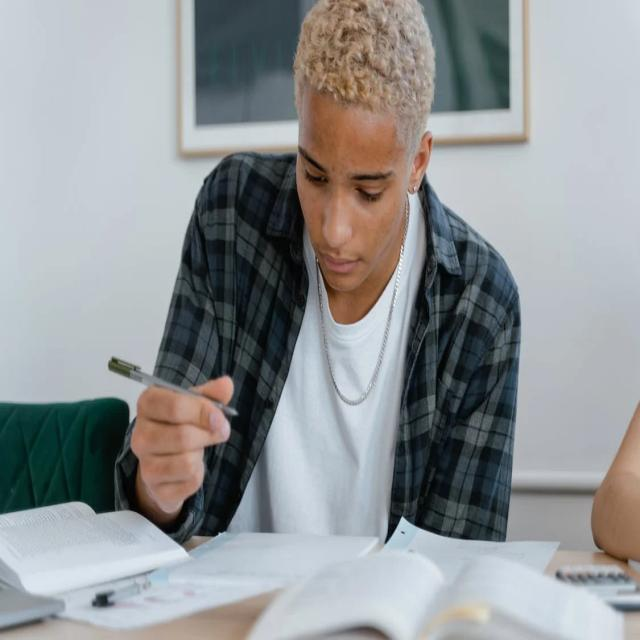studying-person: (1, 0, 564, 636)
